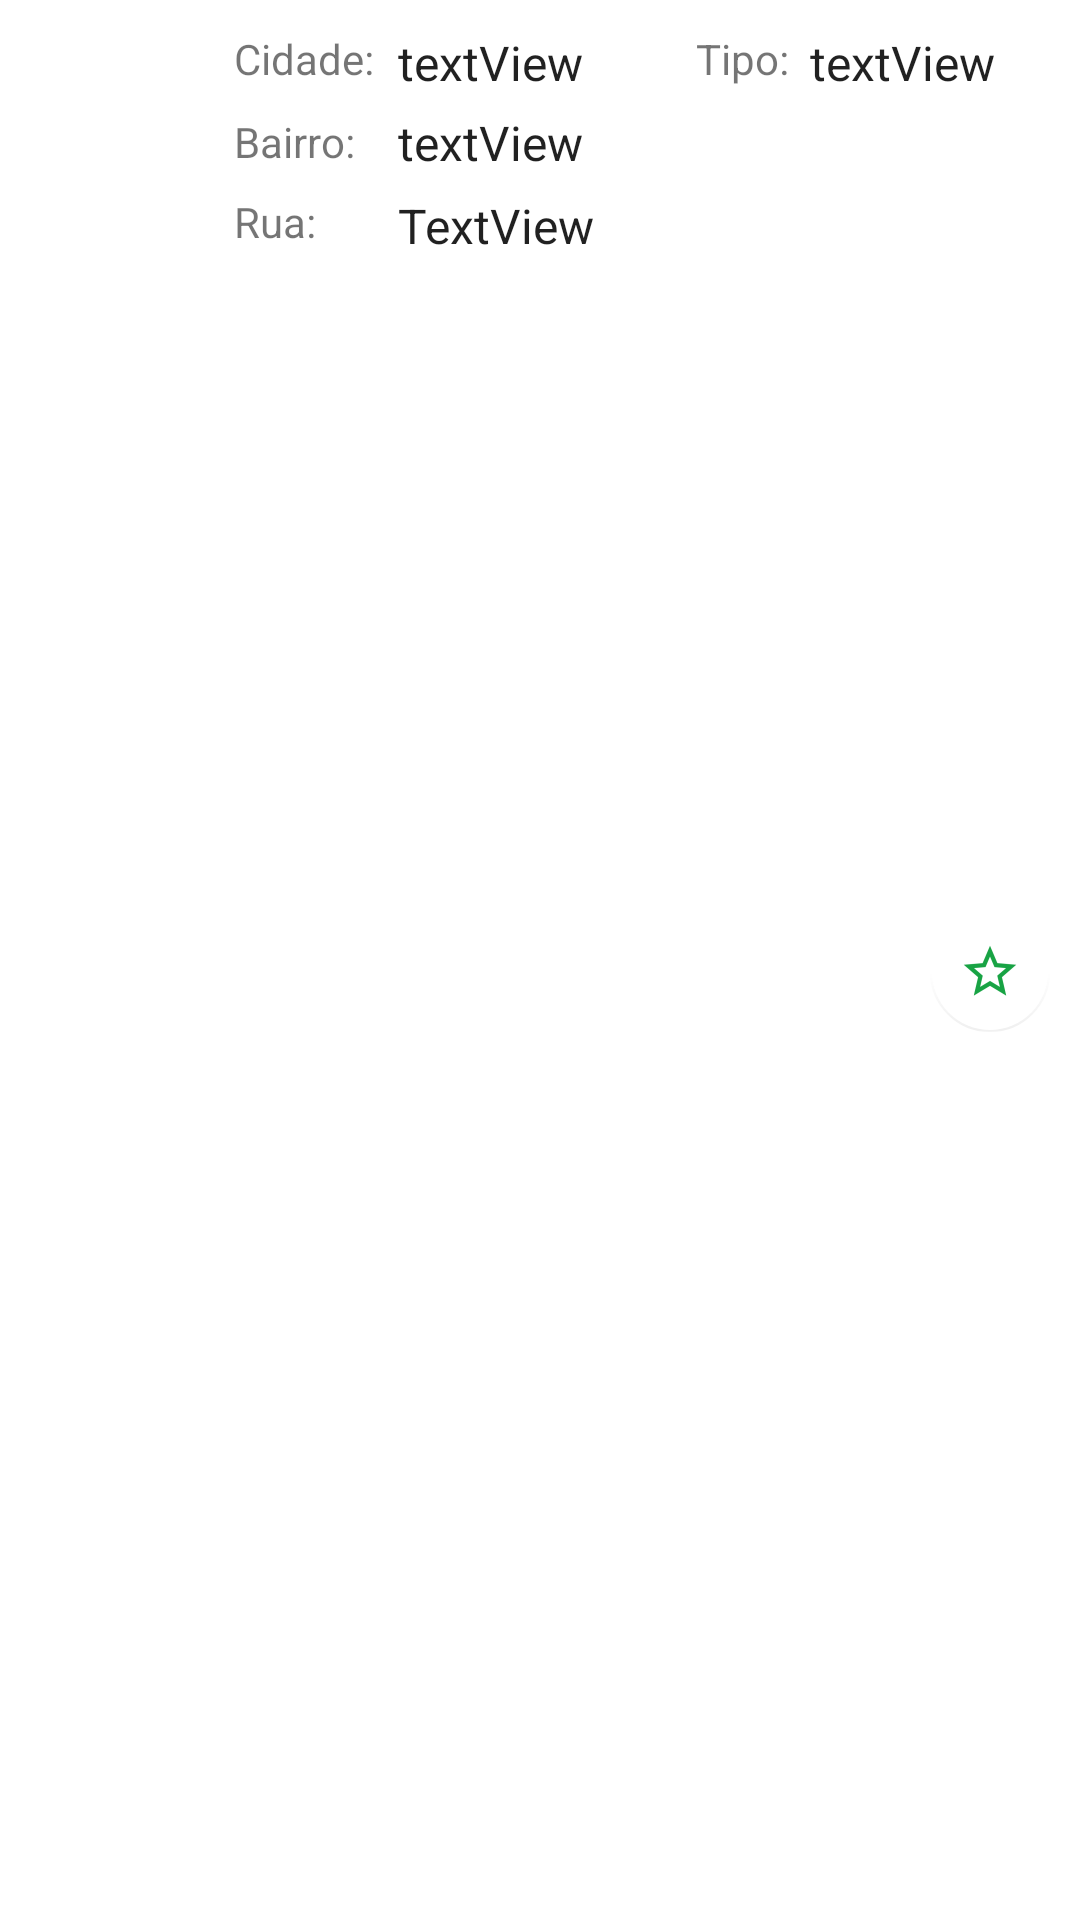

Where to tap for icons on this 1080px×1920px app screen, as [x,y]:
star border: [990,971]
